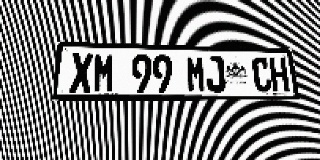9: (132, 54, 152, 92), (153, 55, 173, 92)
C: (251, 57, 272, 92)
H: (269, 57, 290, 92)
J: (205, 56, 226, 92)
M: (93, 53, 115, 93), (186, 55, 206, 92)
X: (69, 53, 93, 93)
